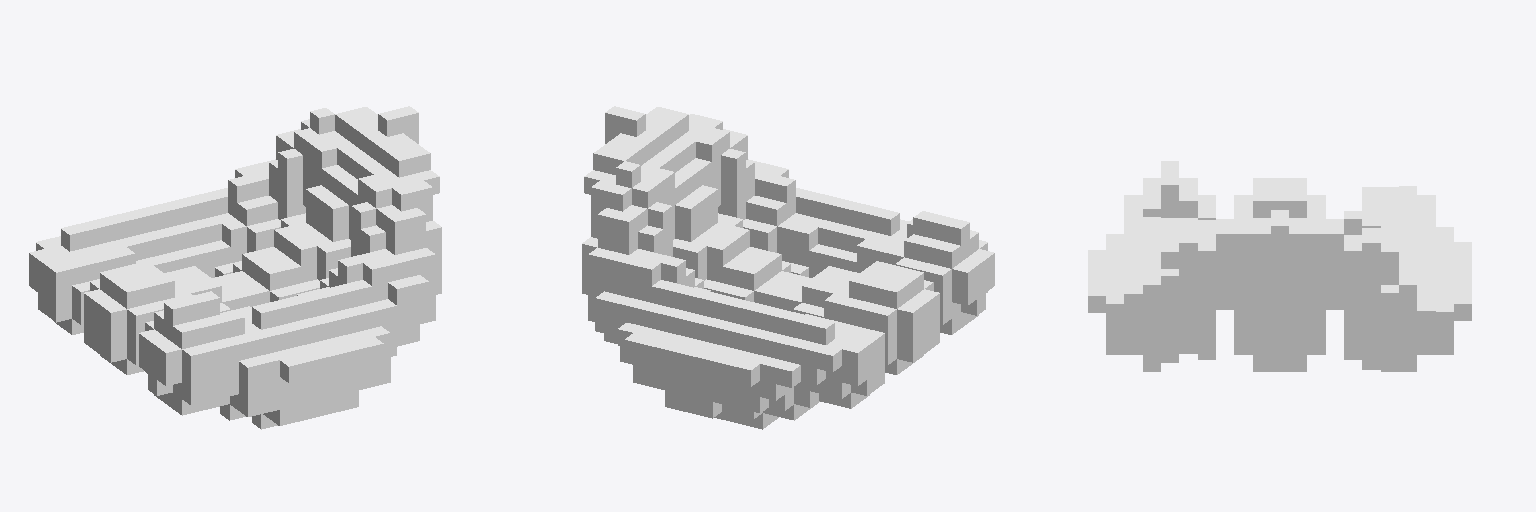
The model's file is Banana_takusan.obj.
3 views of the same model, side by side, from view 1: azimuth 30°, elevation 25°; view 2: azimuth 150°, elevation 25°; view 3: azimuth 270°, elevation 25° (orthographic).
Parts seen in each view (by area): view 1: object 1; view 2: object 1; view 3: object 1.
Boxes of the visible parts, x1=… form: object 1: x1=29, y1=106, x2=441, y2=429; object 1: x1=582, y1=106, x2=994, y2=429; object 1: x1=1088, y1=161, x2=1471, y2=371.
Bounding box in the file's own units: 2 × 1.3 × 2.1.